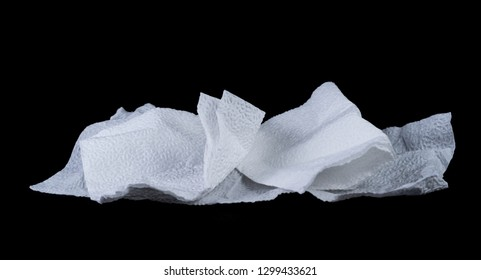Tissue: (28, 79, 458, 209)
